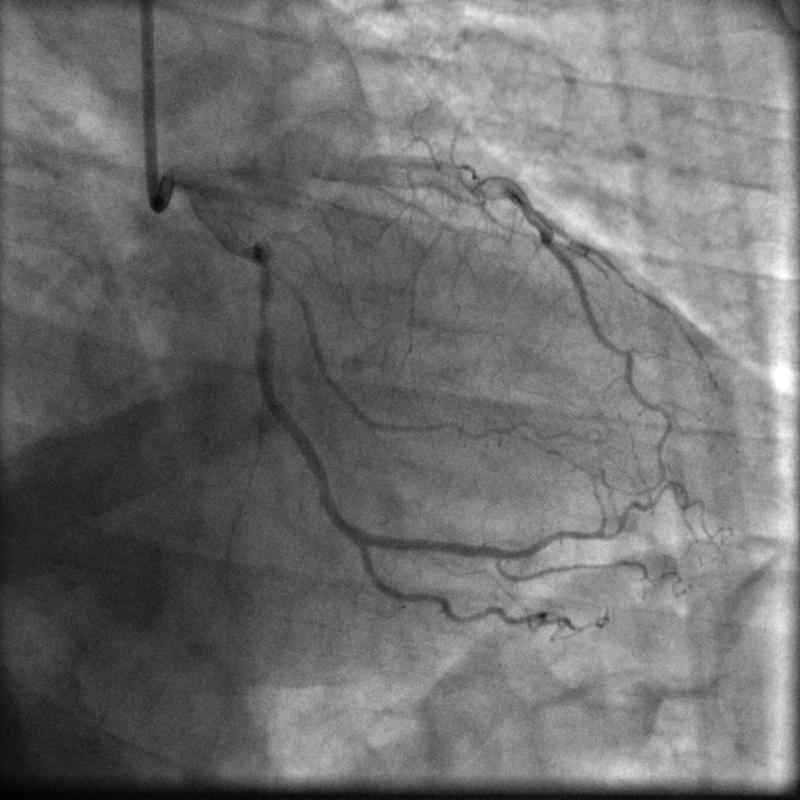Stenosis: (255, 305, 276, 334)
